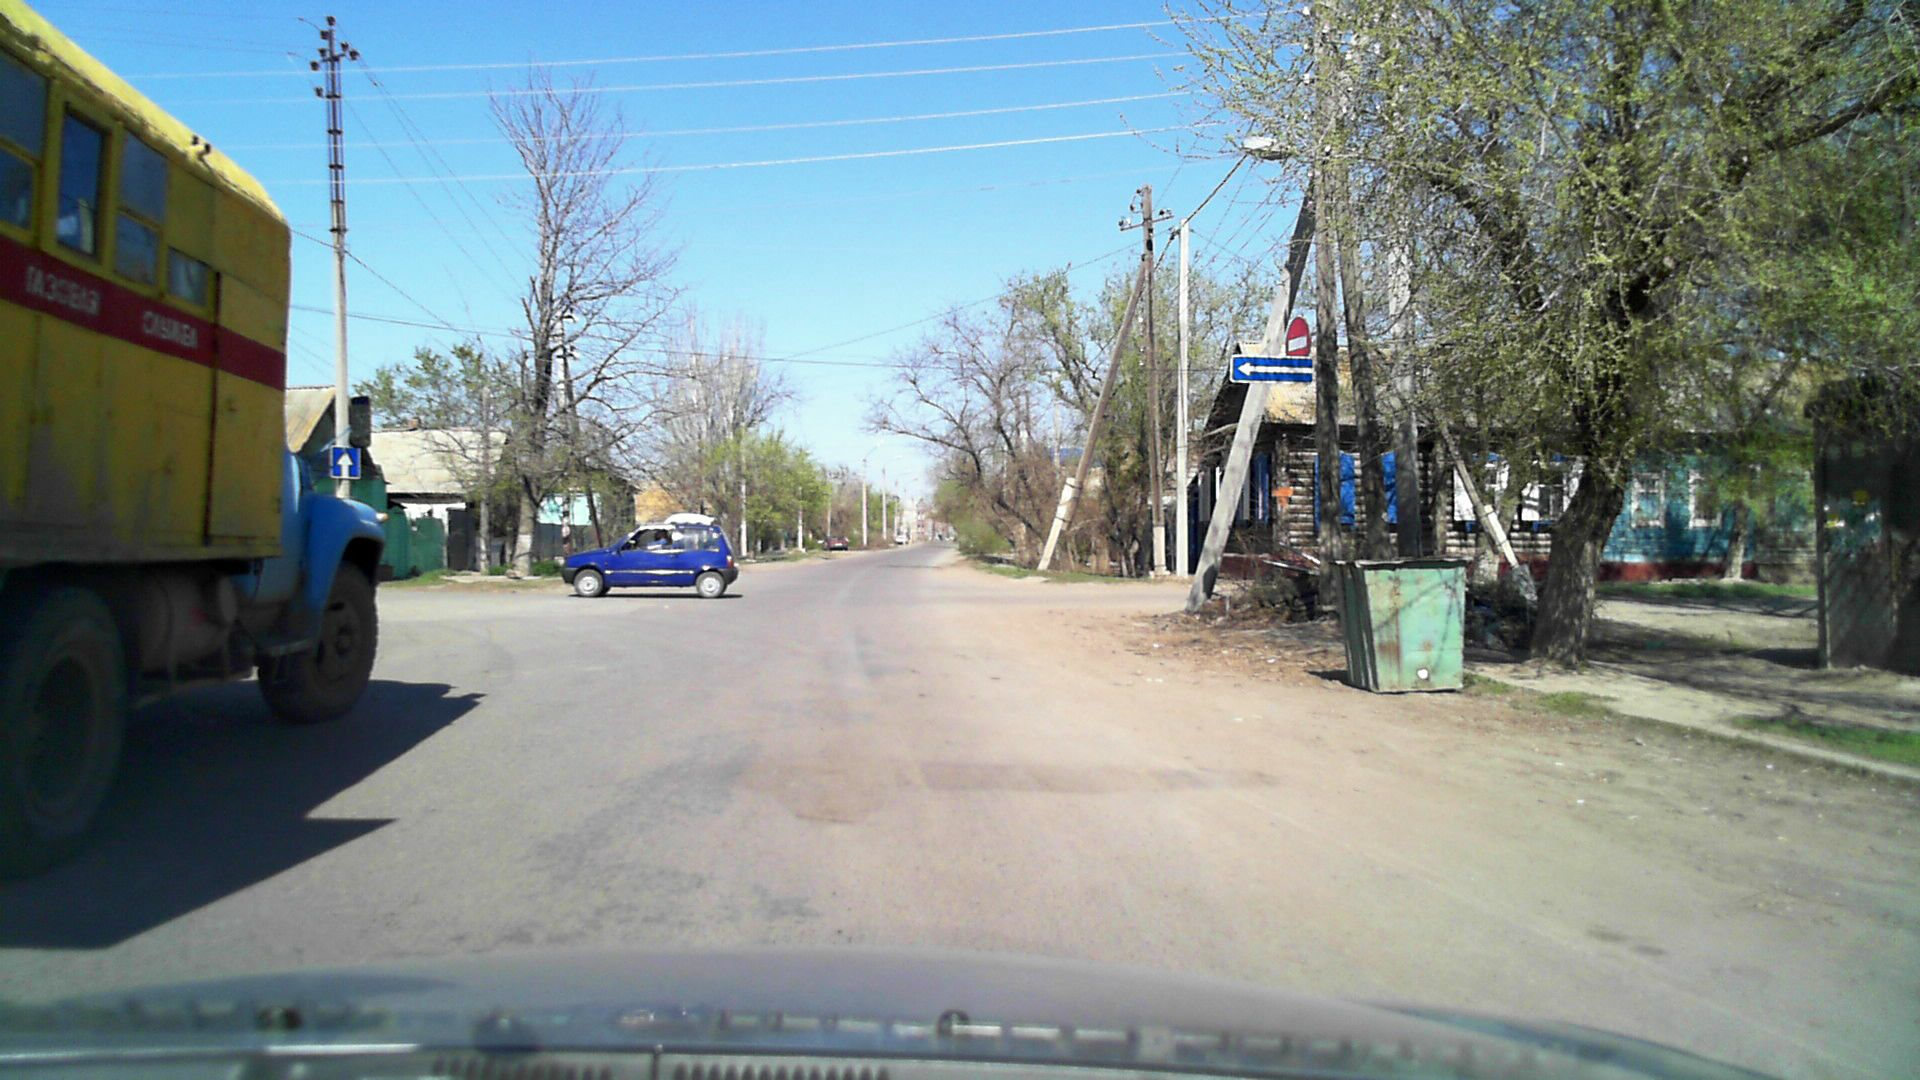One-Way Traffic: (1232, 355, 1313, 382)
